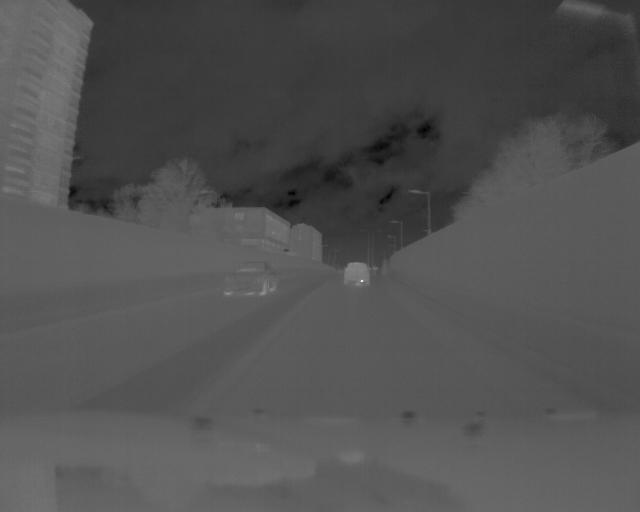car: (224, 260, 282, 302), (342, 260, 372, 291)
